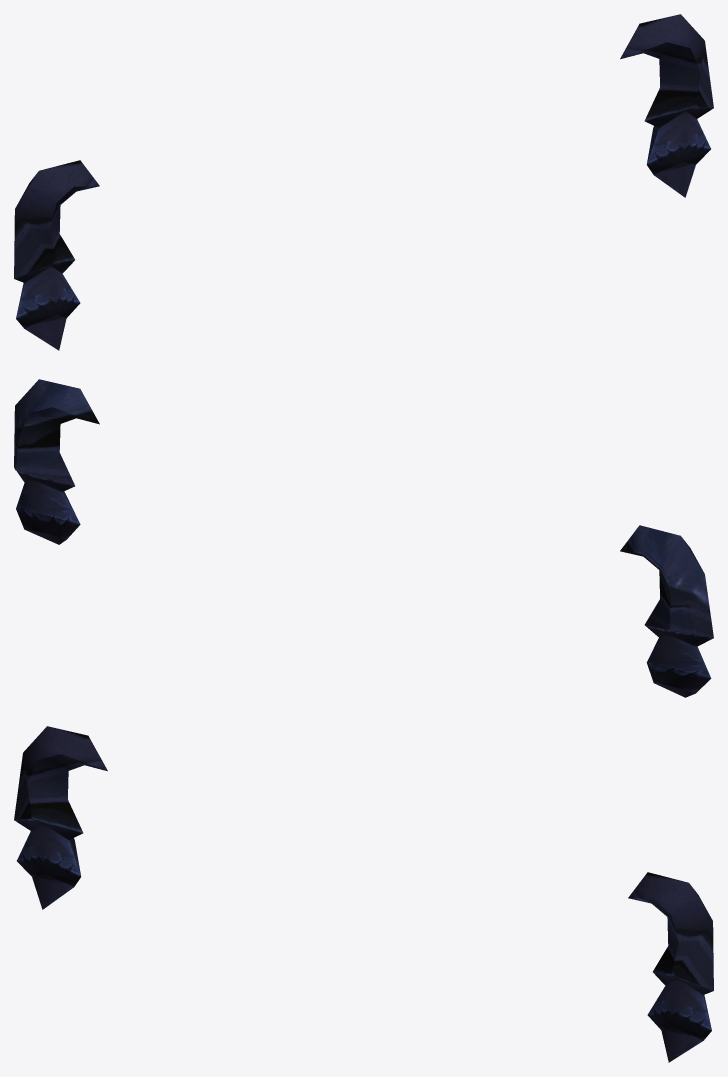
The model's file is palace_stairs_cap_01.fbx.
The picture shows the model from 3 angles, top to bottom: view 1: azimuth 30°, elevation 25°; view 2: azimuth 150°, elevation 25°; view 3: azimuth 330°, elevation 25°; orthographic projection.
Visible parts, largest first — view 1: palace_stairs_cap_01-0; view 2: palace_stairs_cap_01-0; view 3: palace_stairs_cap_01-0.
Boxes of the visible parts, x1,y1,x2,y2 form: palace_stairs_cap_01-0: (14,14,713,350); palace_stairs_cap_01-0: (14,379,713,697); palace_stairs_cap_01-0: (14,726,713,1062).
Size of the model in its own units: 8.45 by 2 by 0.7052.
